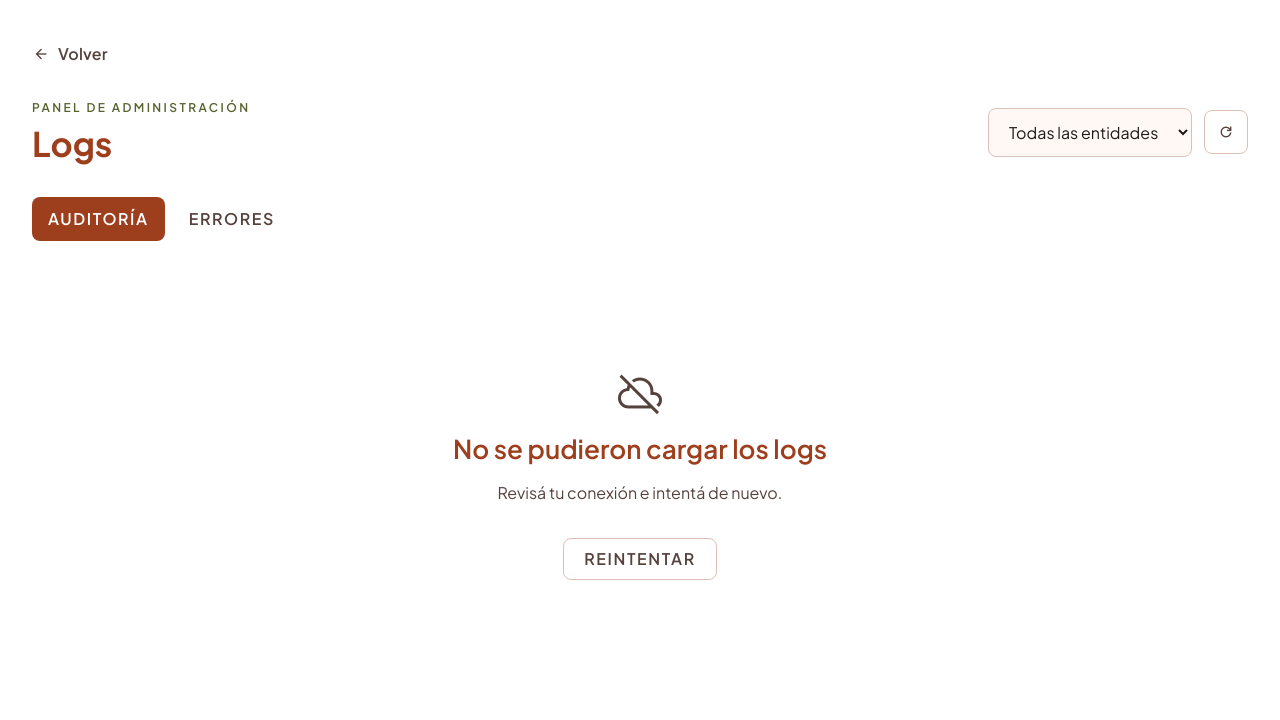
Test: AdminLogs — estado de error de carga › Reintentar vuelve a pedir, y el fetch exitoso limpia el error
Expected: the heading "No se pudieron cargar los logs" is shown, [453,433,827,466]
Click the button "Reintentar" at (640, 559), box [563,538,717,580]
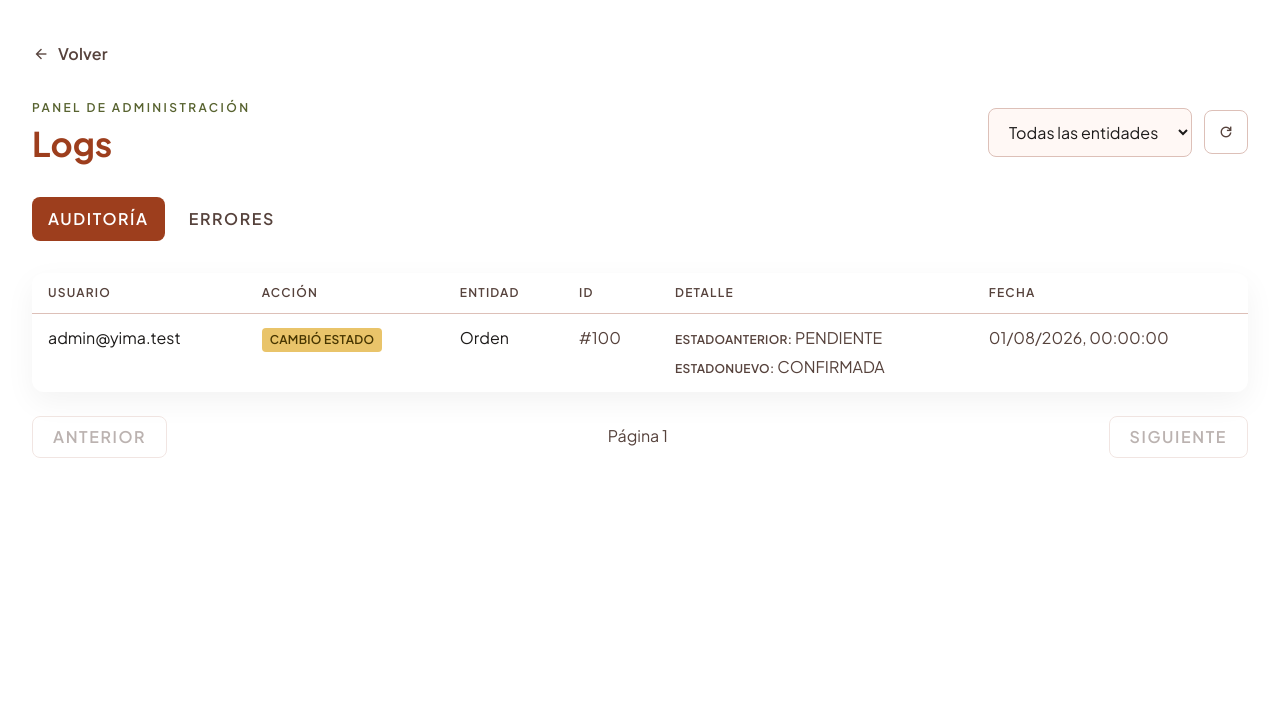
Expected: the text "admin@yima.test" is shown, [32,314,246,392]
Expected: the heading "No se pudieron cargar los logs" is gone
